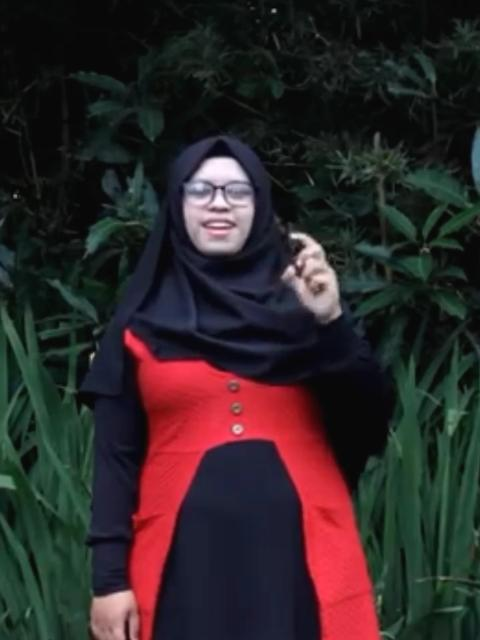X: (276, 228, 344, 326)
